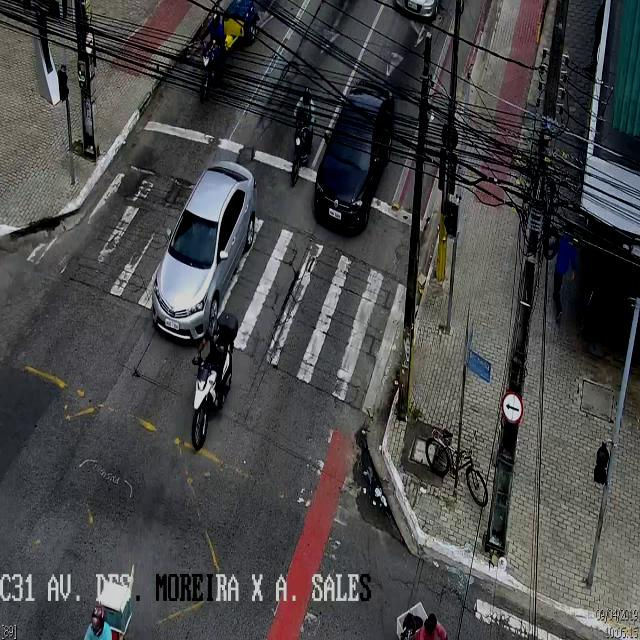Car: (152, 163, 256, 340), (314, 80, 394, 238)
Motorcycle: (191, 308, 238, 454), (76, 571, 147, 640), (198, 13, 225, 103), (290, 86, 313, 191)
